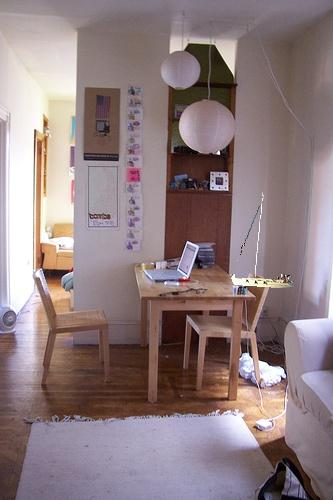tampered: (231, 193, 294, 288)
